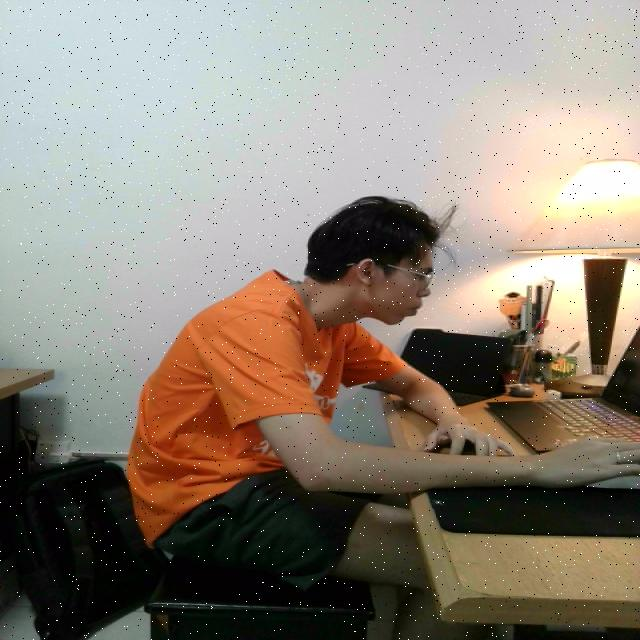Bad: (111, 180, 514, 603)
